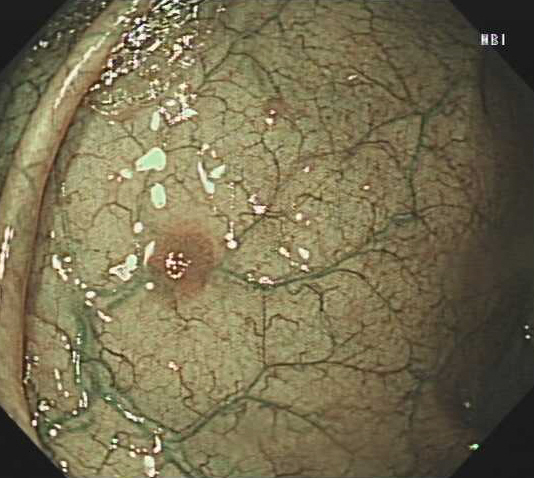adenoma: (141, 229, 217, 299)
